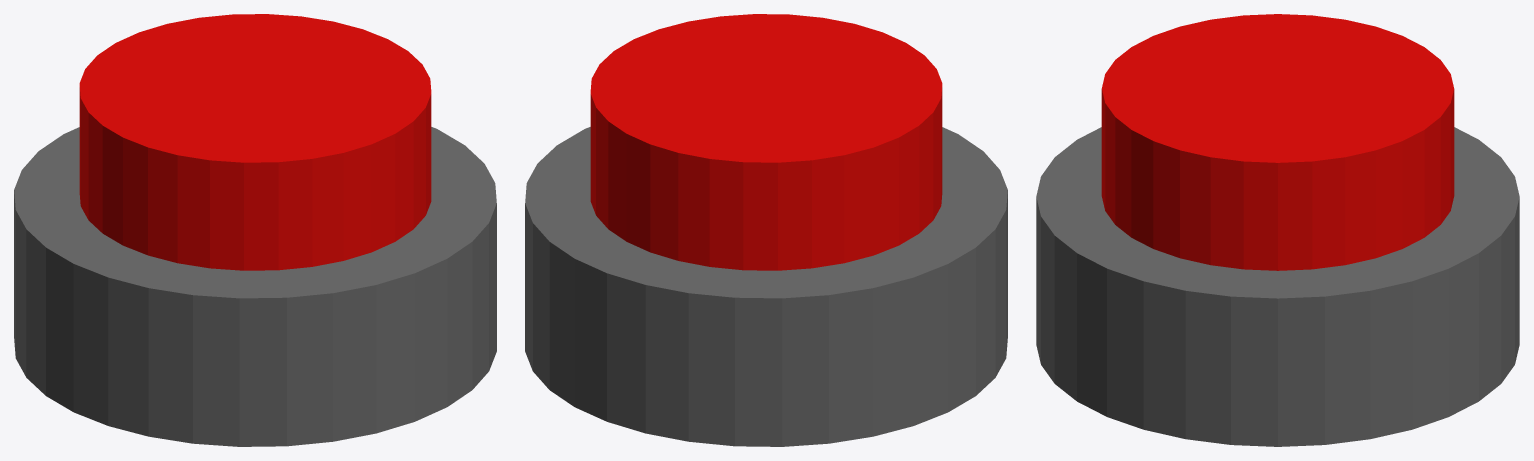
The model's file is RedButton.glb.
The picture shows the model from 3 angles, left to right: view 1: azimuth 30°, elevation 25°; view 2: azimuth 150°, elevation 25°; view 3: azimuth 270°, elevation 25°; orthographic projection.
Visible parts, largest first — view 1: Base, Button; view 2: Base, Button; view 3: Base, Button.
Part boxes in pixels (<box>): Base: <box>14,127,496,446</box>; Button: <box>79,14,431,270</box>; Base: <box>525,127,1007,446</box>; Button: <box>590,14,942,270</box>; Base: <box>1036,127,1519,446</box>; Button: <box>1101,14,1454,270</box>.
Bounding box in the file's own units: 0.9081 × 0.5316 × 0.9081.
